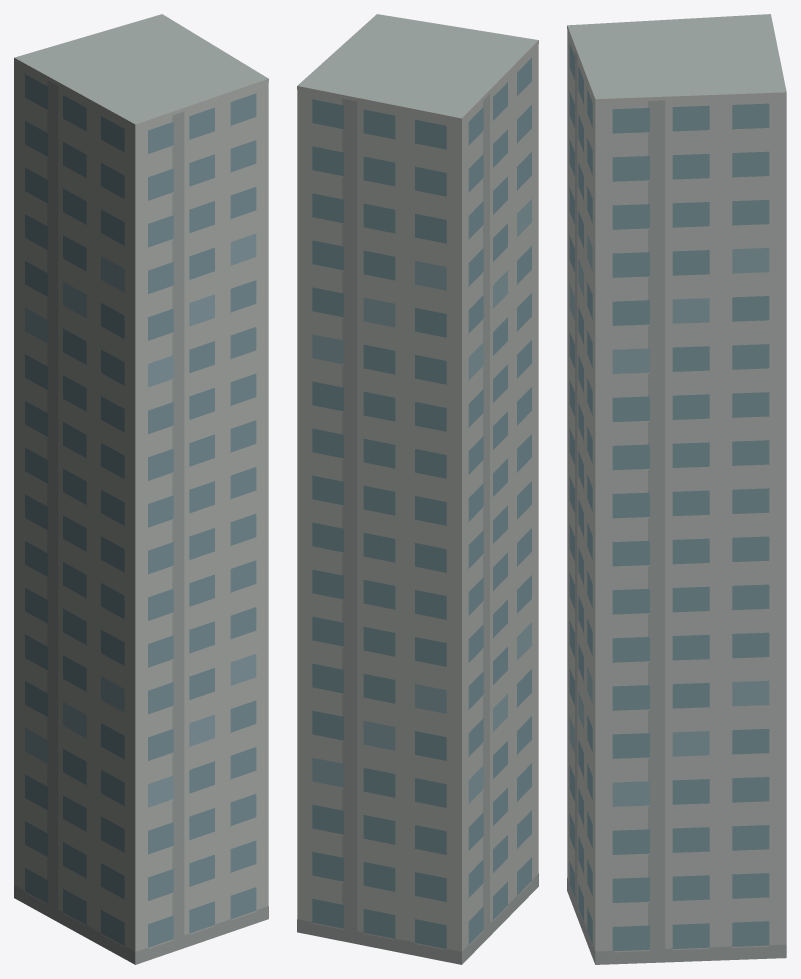
Rendered from survey-upis-32997996.glb.
The picture shows the model from 3 angles, left to right: view 1: azimuth 30°, elevation 25°; view 2: azimuth 150°, elevation 25°; view 3: azimuth 270°, elevation 25°; orthographic projection. The views are drawn at different scales.
Parts seen in each view (by area): view 1: survey-upis-32997996.tmp; view 2: survey-upis-32997996.tmp; view 3: survey-upis-32997996.tmp.
Boxes of the visible parts, box(x1,y1,x2,y2) form: survey-upis-32997996.tmp: box(14, 14, 268, 964); survey-upis-32997996.tmp: box(297, 14, 538, 964); survey-upis-32997996.tmp: box(567, 14, 786, 964).
Bounding box in the file's own units: 11.6 × 54.9 × 12.63.
